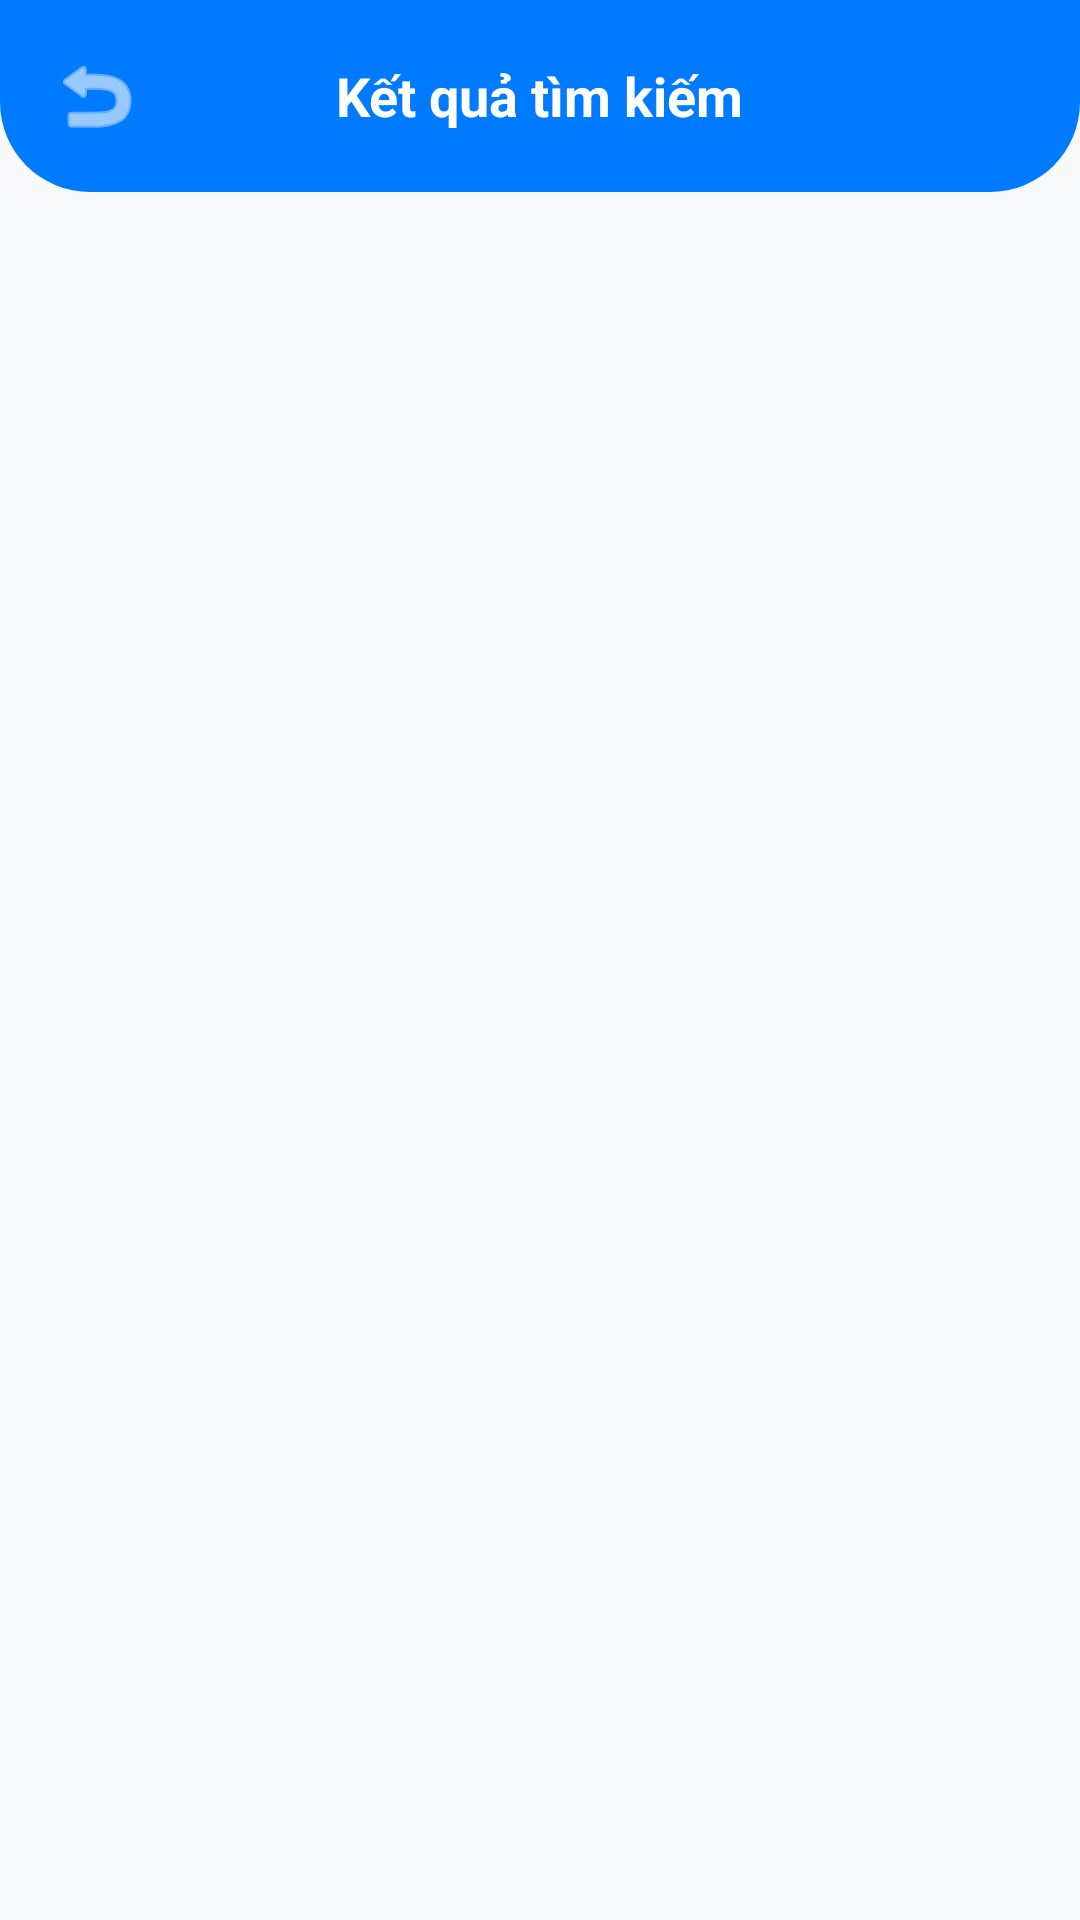

Locate icon controls on the screen. Image size 1080 x 1920, boxes as (x1, y1, x2, y2).
revert: (63, 65, 132, 128)
